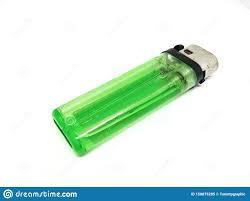lighter: (56, 44, 220, 154)
